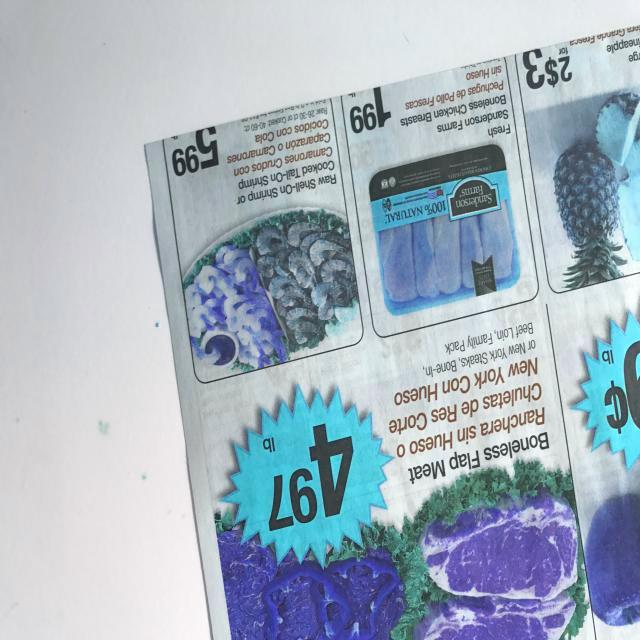paper: (118, 0, 640, 640)
